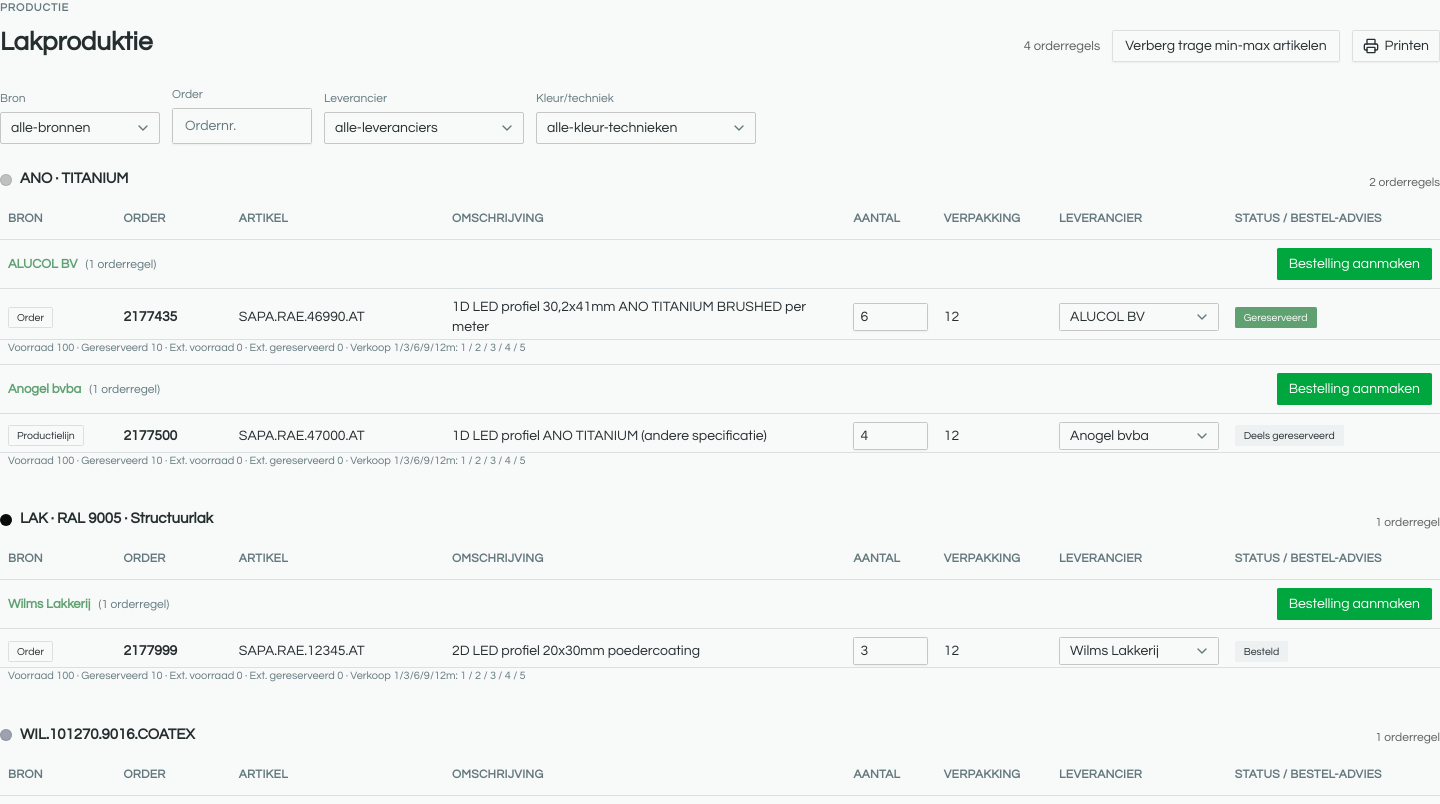
Test: LakproductiePage › opens the bestelling-preview for the clicked leverancier-subgroep only
Click the 3rd button "Bestelling aanmaken" at (1354, 604), box [1277,588,1432,620]
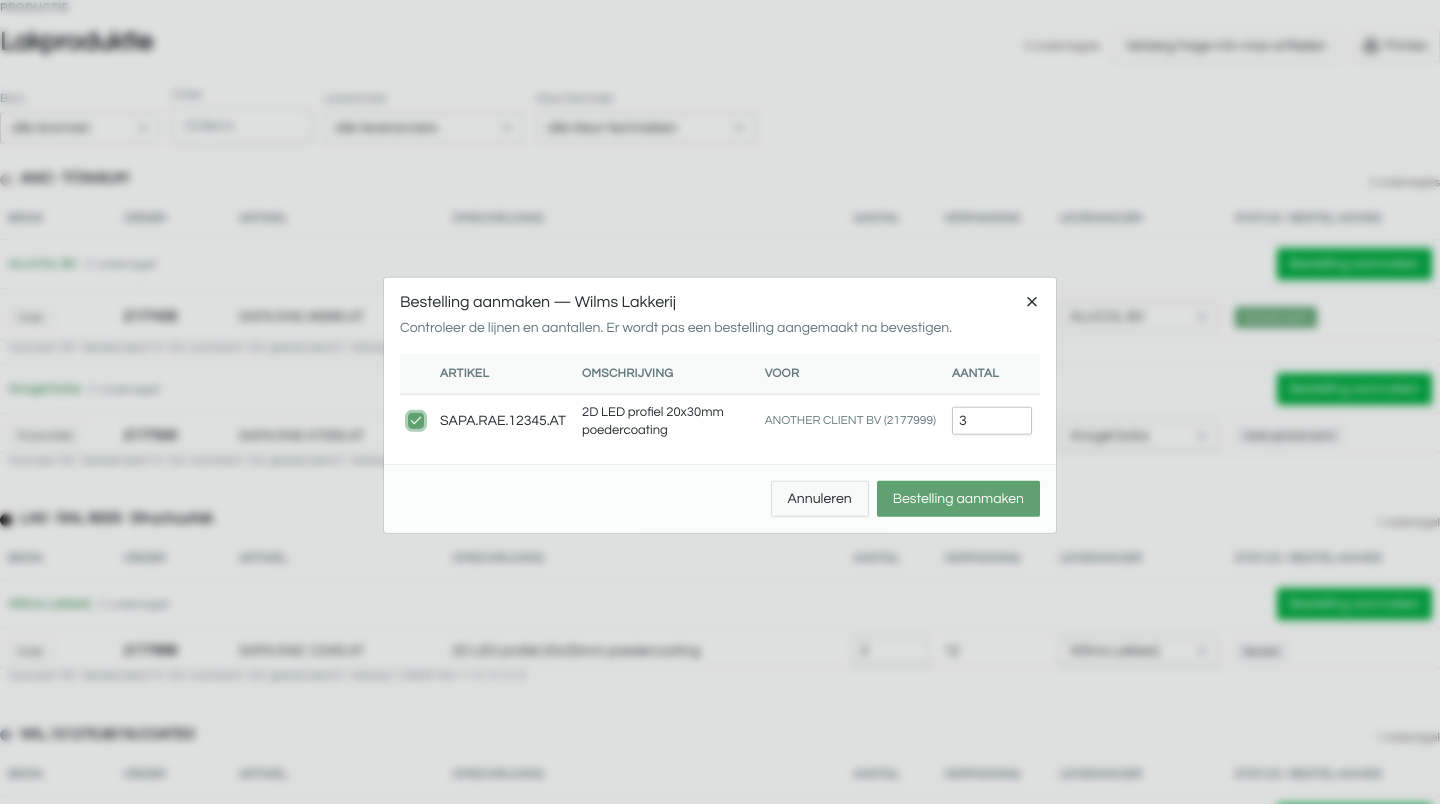
Now the heading "Bestelling aanmaken — Wilms Lakkerij" is shown, box [400,294,676,310]
Now the text "SAPA.RAE.12345.AT" is shown, box [432,394,574,447]
